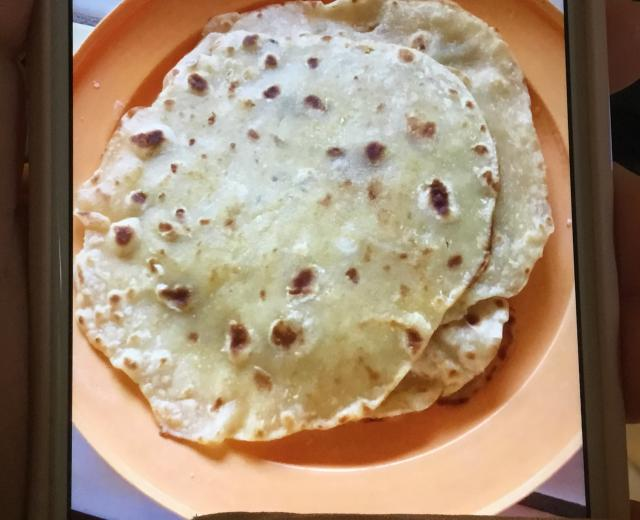chapati: (76, 29, 497, 442)
